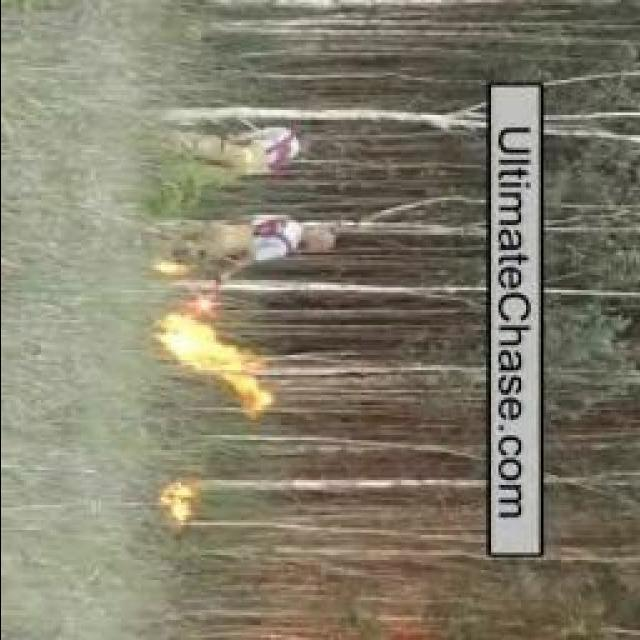Fire: (150, 308, 268, 416), (150, 472, 202, 534)
